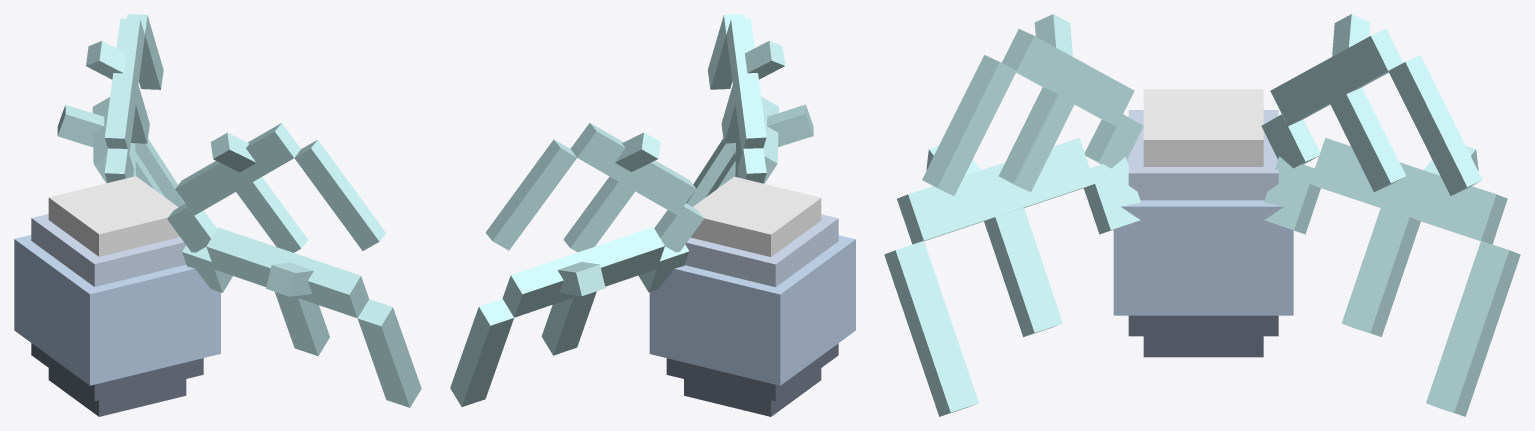
Rendered from egg_bone_dragon.obj.
3 views of the same model, side by side, from view 1: azimuth 30°, elevation 25°; view 2: azimuth 150°, elevation 25°; view 3: azimuth 270°, elevation 25° (orthographic). The views are drawn at different scales.
Visible parts, largest first — view 1: E2U, E3, E1U, E2D, E1D; view 2: E2U, E3, E1U, E2D, E1D; view 3: E2U, E3, E1U, E2D, E1D.
Boxes of the visible parts, x1,y1,x2,y2 form: E2U: [31, 14, 421, 407]; E3: [14, 235, 220, 385]; E1U: [48, 176, 179, 256]; E2D: [31, 343, 203, 401]; E1D: [48, 368, 186, 416]; E2U: [450, 14, 838, 406]; E3: [649, 235, 855, 385]; E1U: [690, 176, 821, 256]; E2D: [666, 343, 838, 401]; E1D: [684, 368, 821, 416]; E2U: [884, 14, 1520, 416]; E3: [1113, 157, 1293, 315]; E1U: [1143, 89, 1263, 166]; E2D: [1128, 315, 1278, 336]; E1D: [1143, 336, 1263, 357].
Size of the model in its own units: 8.92 by 9.53 by 15.7.
